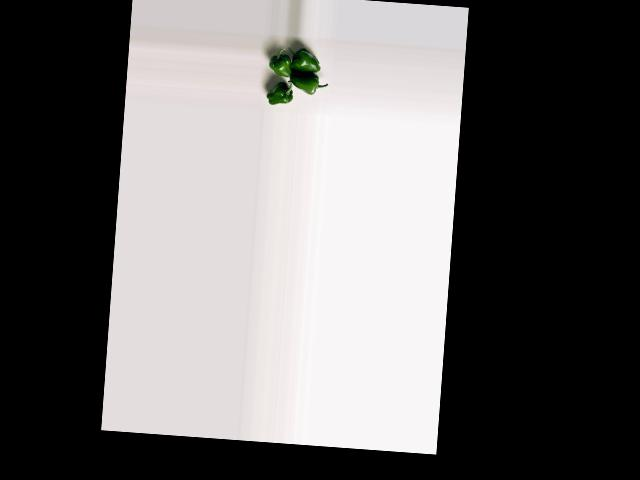bell_pepper: (268, 48, 291, 79)
